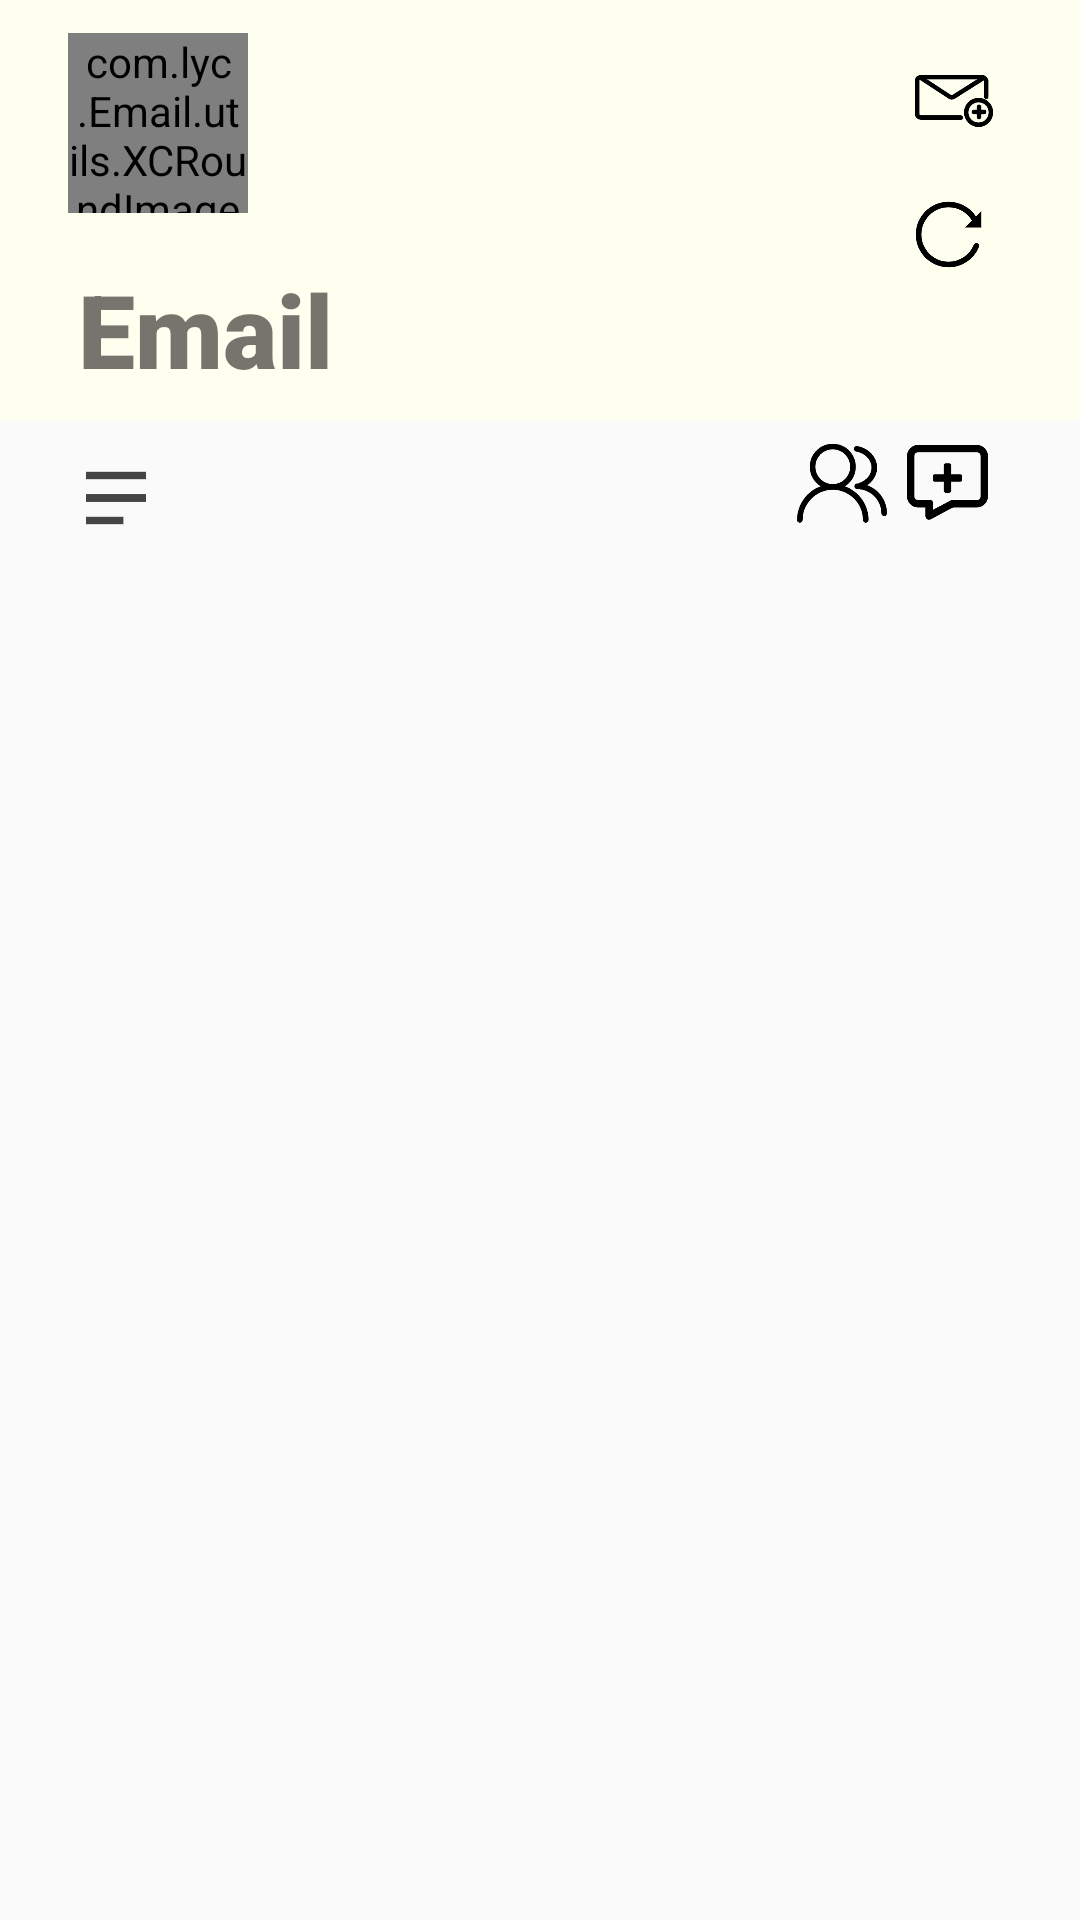

Where icons sit on this 1080w x 1920h app screen, as (x1, y1, x2, y2):
flush: (916, 201, 982, 268)
list: (86, 471, 146, 525)
